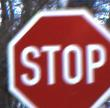Stop sign: (0, 0, 109, 107)
